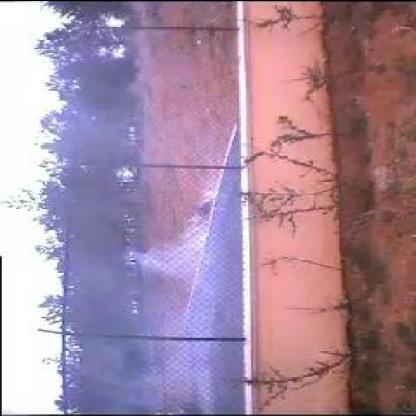-: (66, 160, 244, 338)
